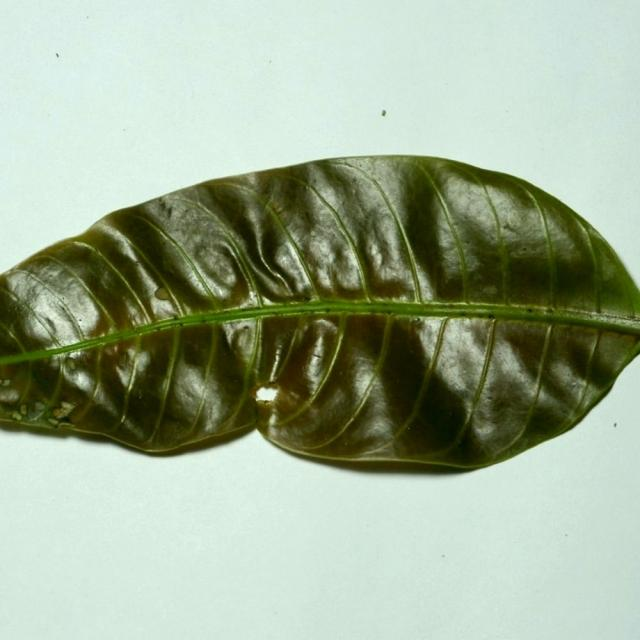Anthracnose: (254, 373, 308, 422), (4, 396, 74, 429), (250, 380, 280, 410), (251, 381, 281, 409), (253, 396, 279, 427), (51, 401, 77, 424), (248, 386, 263, 403), (154, 286, 171, 301), (256, 399, 269, 407)
Mango: (0, 156, 639, 479)
